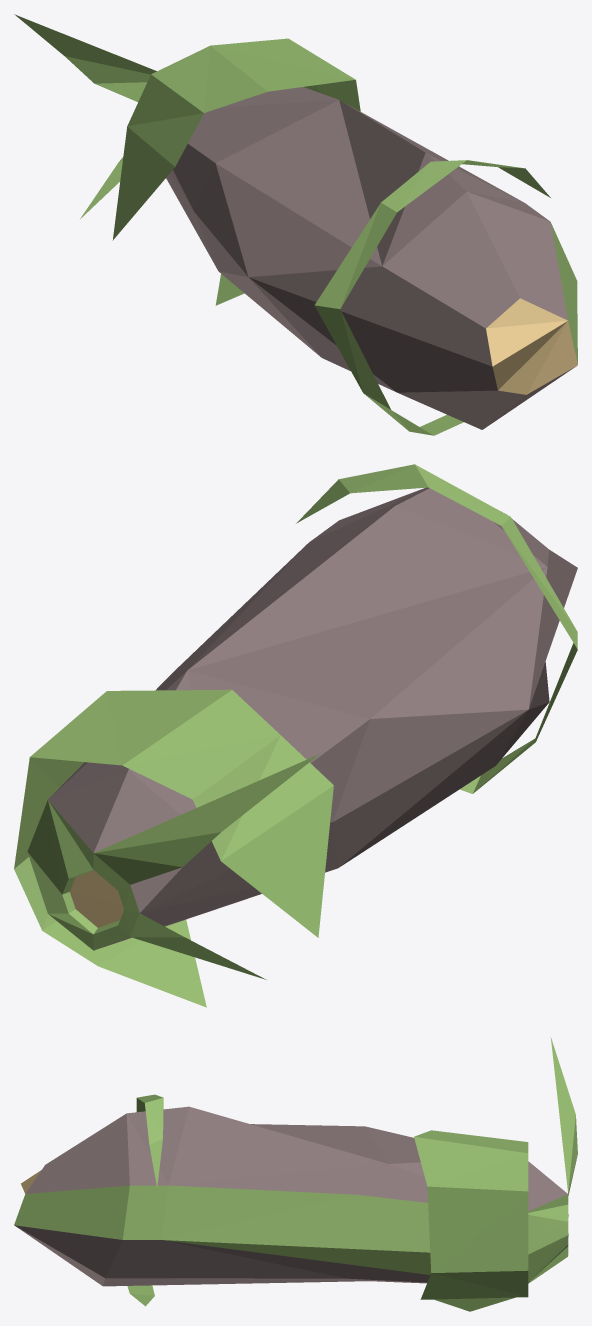
The model's file is iris_rhizomes.fbx.
3 views of the same model, one above another, from view 1: azimuth 30°, elevation 25°; view 2: azimuth 150°, elevation 25°; view 3: azimuth 270°, elevation 25° (orthographic). The views are drawn at different scales.
Parts seen in each view (by area): view 1: pCube65; view 2: pCube65; view 3: pCube65.
Boxes of the visible parts, <box> form: pCube65: <box>14,14,577,435</box>; pCube65: <box>14,464,577,1007</box>; pCube65: <box>14,1037,577,1311</box>.
Bounding box in the file's own units: 4.3 × 4.27 × 9.78.
